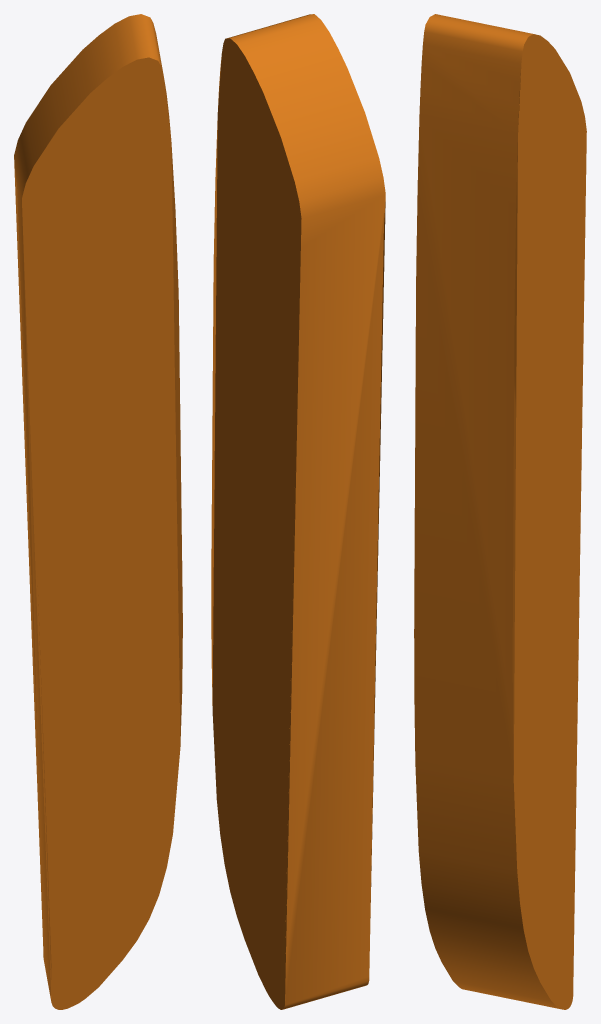
The model's file is alifalif alif.fbx.
3 renders of one model, left to right at view 1: azimuth 30°, elevation 25°; view 2: azimuth 150°, elevation 25°; view 3: azimuth 270°, elevation 25°, orthographic. The views are drawn at different scales.
Parts seen in each view (by area): view 1: ALIF; view 2: ALIF; view 3: ALIF.
Part boxes in pixels (x1=…): ALIF: x1=14, y1=14, x2=182, y2=1009; ALIF: x1=211, y1=14, x2=385, y2=1009; ALIF: x1=414, y1=14, x2=586, y2=1009.
Size of the model in its own units: 22.4 by 123 by 19.17.
